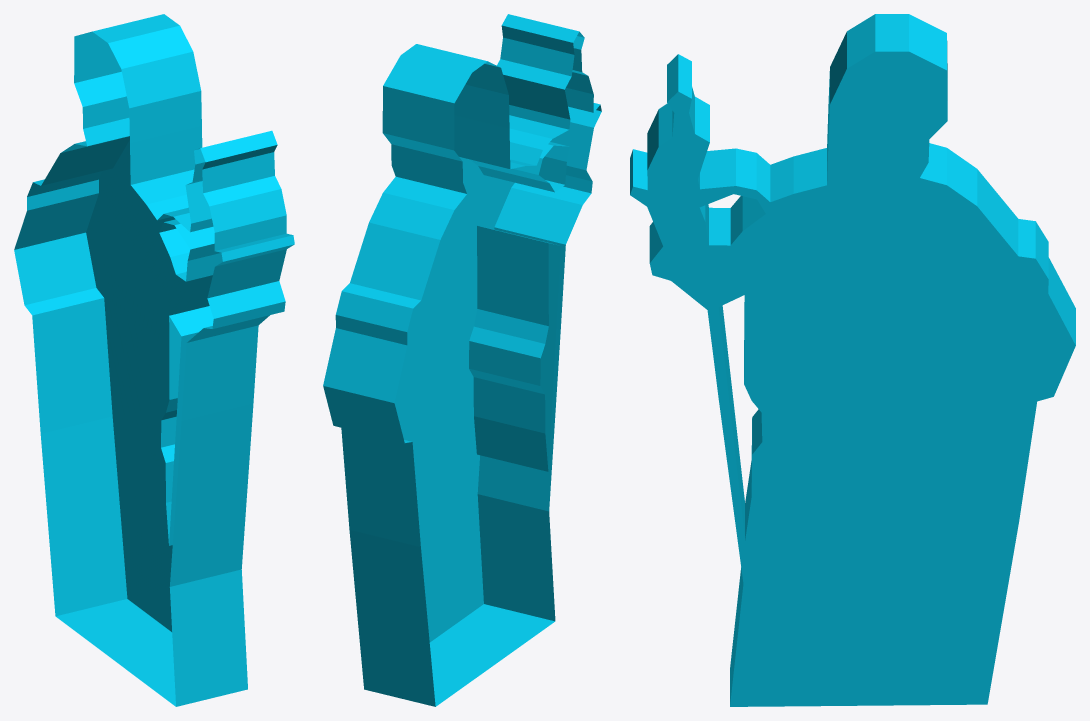
The picture shows the model from 3 angles, left to right: view 1: azimuth 30°, elevation 25°; view 2: azimuth 150°, elevation 25°; view 3: azimuth 270°, elevation 25°; orthographic projection. The views are drawn at different scales.
Visible parts, largest first — view 1: Object081; view 2: Object081; view 3: Object081.
Boxes of the visible parts, x1,y1,x2,y2 form: Object081: (14,14,294,706); Object081: (323,14,601,706); Object081: (630,14,1075,706).
Size of the model in its own units: 59.16 by 482 by 297.
